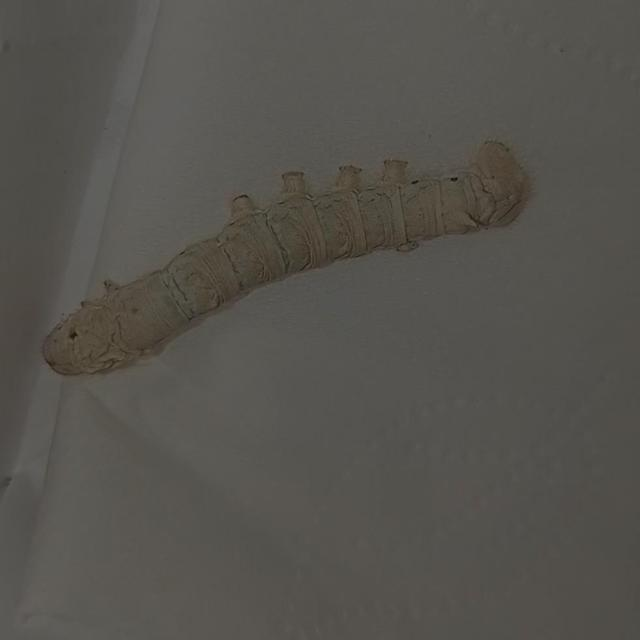Healthy: (20, 114, 563, 420)
